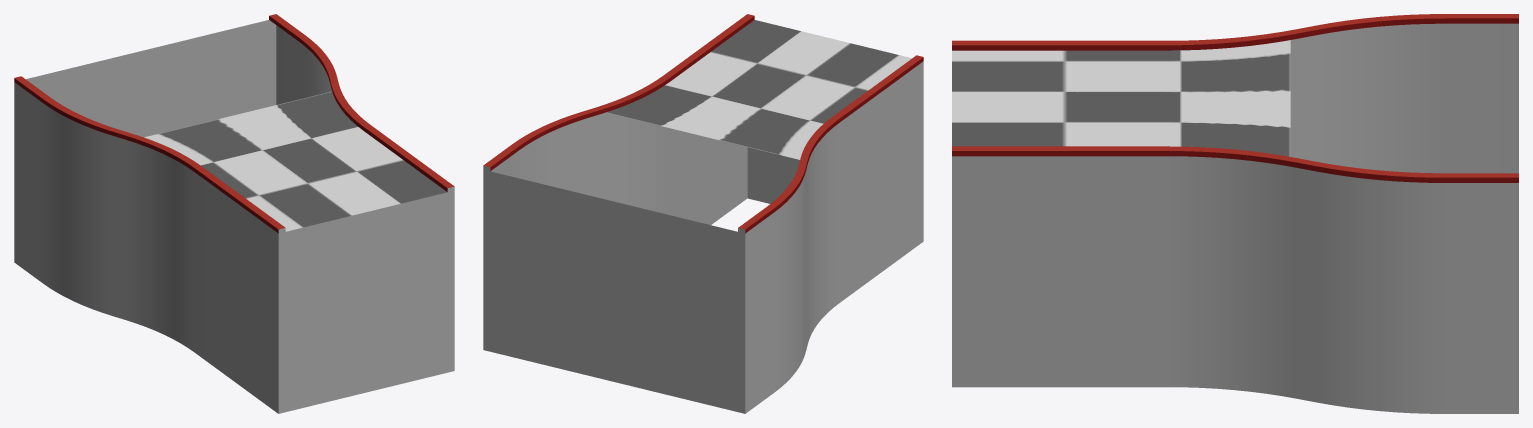
Rendered from Road_Curve_01.fbx.
3 views of the same model, side by side, from view 1: azimuth 30°, elevation 25°; view 2: azimuth 150°, elevation 25°; view 3: azimuth 270°, elevation 25° (orthographic). The views are drawn at different scales.
Parts seen in each view (by area): view 1: Road_Curve_01, Road_Curve_01_Border; view 2: Road_Curve_01, Road_Curve_01_Border; view 3: Road_Curve_01, Road_Curve_01_Border.
Part boxes in pixels (left/top/right/bottom): Road_Curve_01: left=14, top=20, right=454, bottom=413; Road_Curve_01_Border: left=14, top=14, right=454, bottom=233; Road_Curve_01: left=483, top=20, right=923, bottom=413; Road_Curve_01_Border: left=483, top=14, right=923, bottom=233; Road_Curve_01: left=952, top=23, right=1518, bottom=413; Road_Curve_01_Border: left=952, top=14, right=1518, bottom=182.
Size of the model in its own units: 1303 by 876 by 1906.
